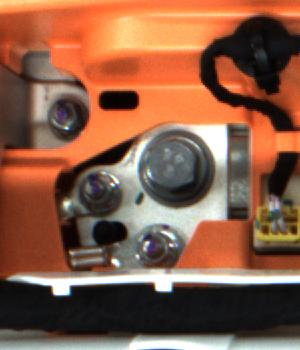screw_s: (133, 226, 177, 272), (74, 173, 123, 209), (42, 96, 85, 136)
